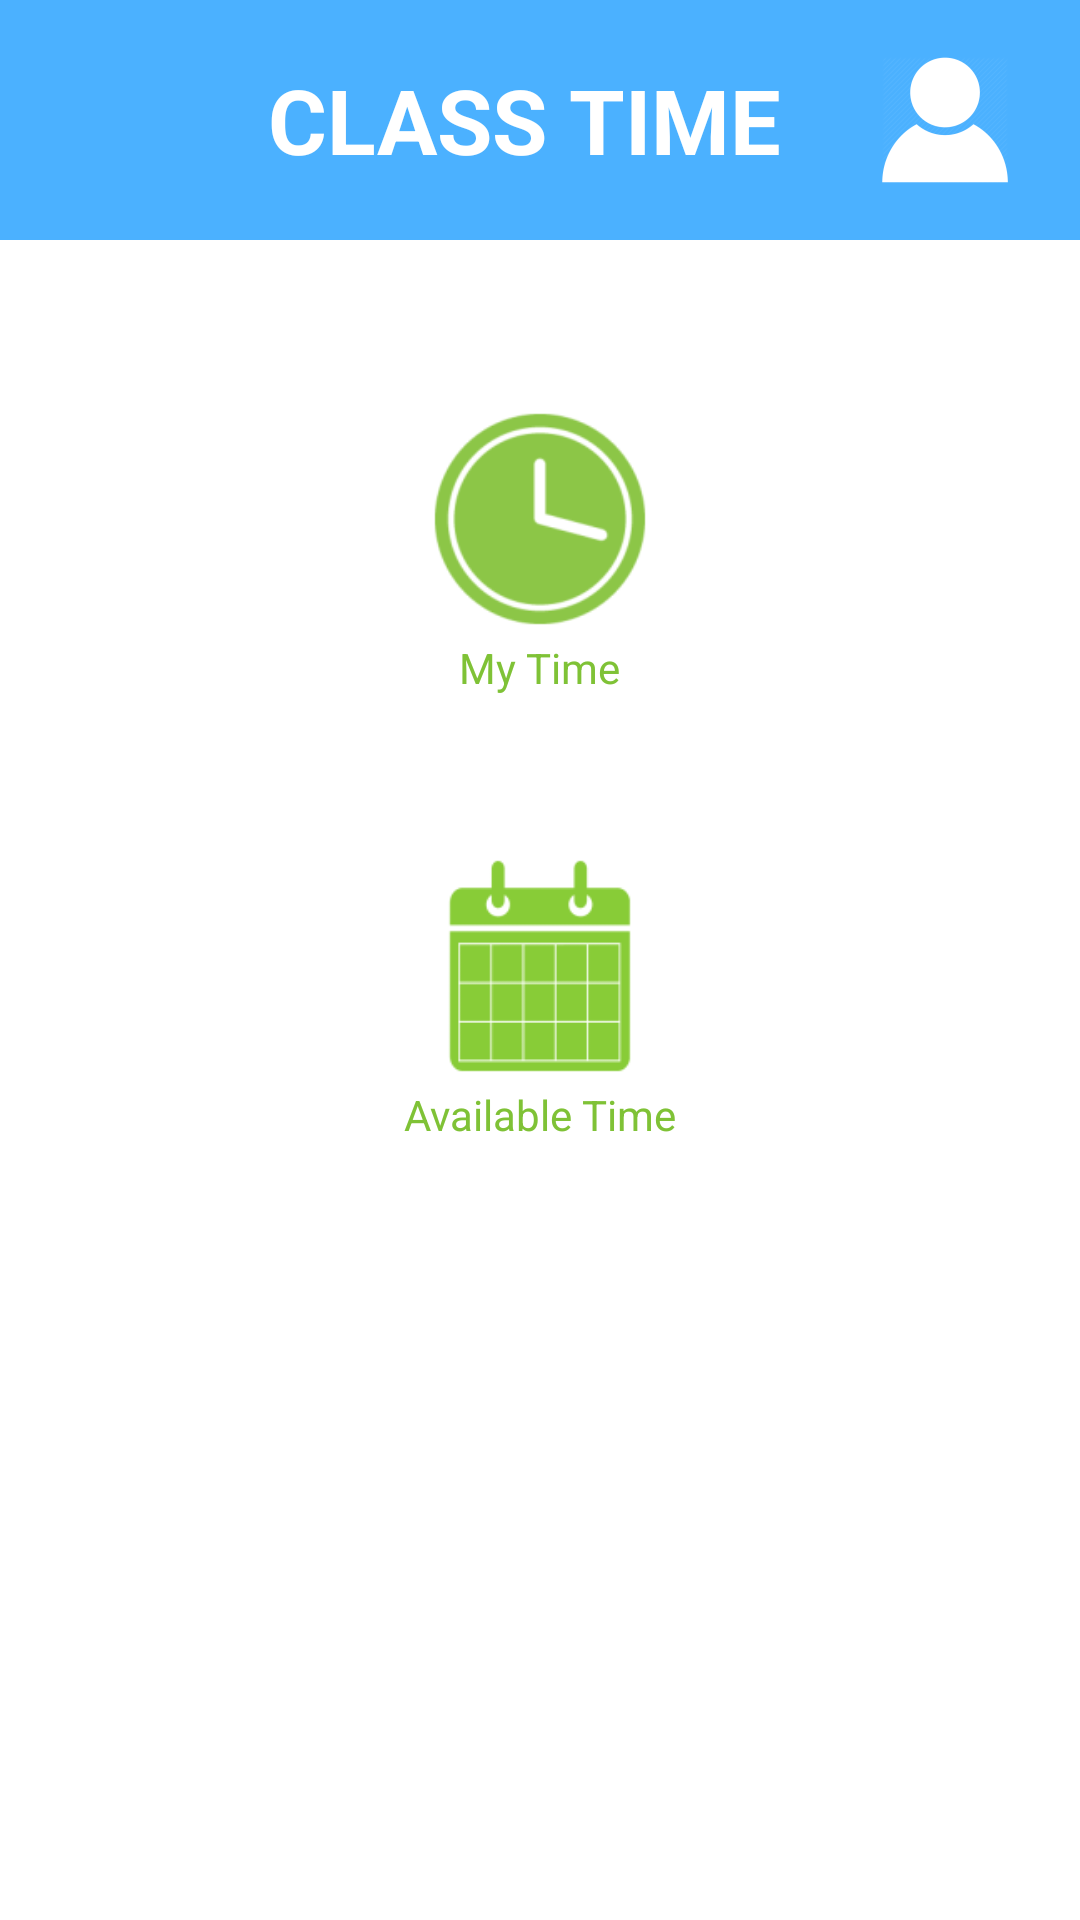

Screen size 1080×1920. Icon name, then its box in pixels as (x1, y1, x2, y2):
clock: (434, 413, 646, 625)
schedule: (449, 860, 631, 1072)
user: (882, 57, 1008, 183)
